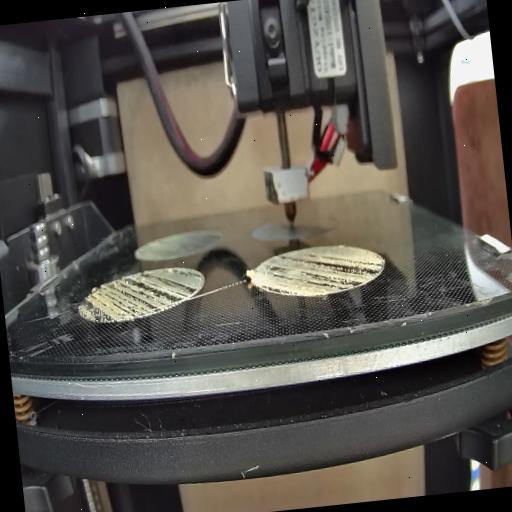under_extrusion: (257, 244, 387, 302), (76, 266, 196, 316)
